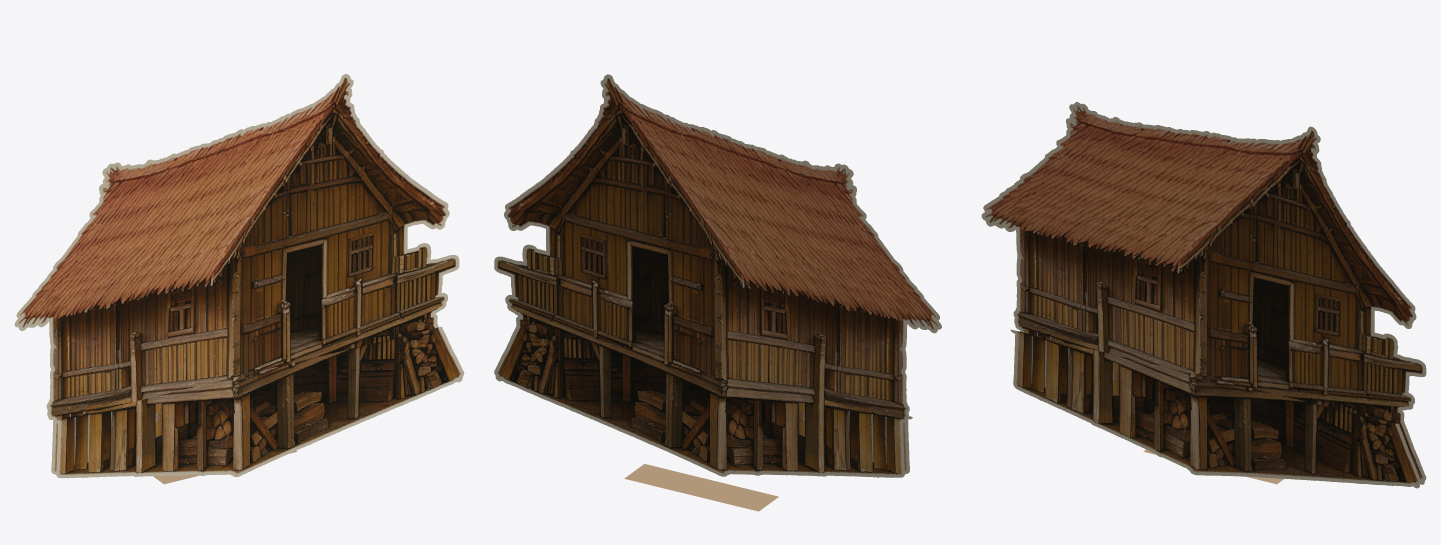
The model's file is toad-prop-barn.glb.
3 views of the same model, side by side, from view 1: azimuth 30°, elevation 25°; view 2: azimuth 150°, elevation 25°; view 3: azimuth 330°, elevation 25° (orthographic).
Parts seen in each view (by area): view 1: barn; view 2: barn; view 3: barn.
Boxes of the visible parts, x1,y1,x2,y2 form: barn: (14, 74, 464, 484); barn: (494, 74, 941, 511); barn: (981, 102, 1426, 488).
Bounding box in the file's own units: 0.42 × 0.3641 × 0.051.
4 materials, 3 textured.
